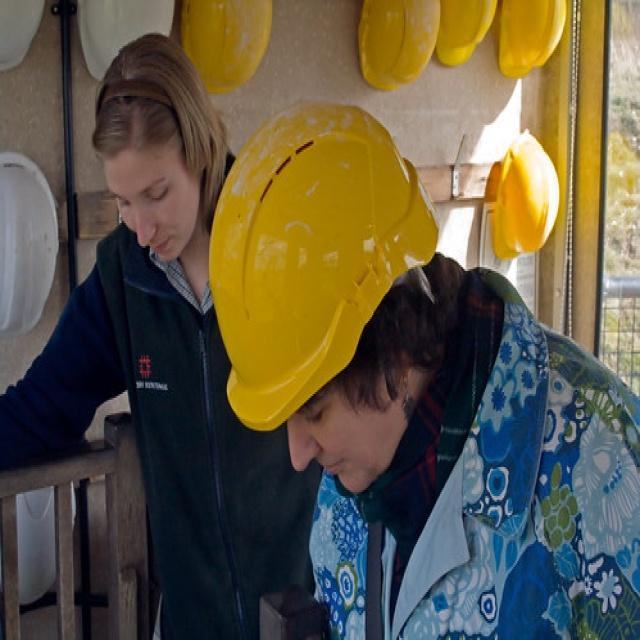helmet: (209, 113, 433, 575), (0, 197, 63, 448), (495, 161, 559, 348), (179, 0, 273, 123), (78, 0, 175, 113), (359, 0, 442, 117), (495, 0, 571, 103), (438, 1, 501, 86), (0, 0, 46, 100), (0, 623, 80, 640)
